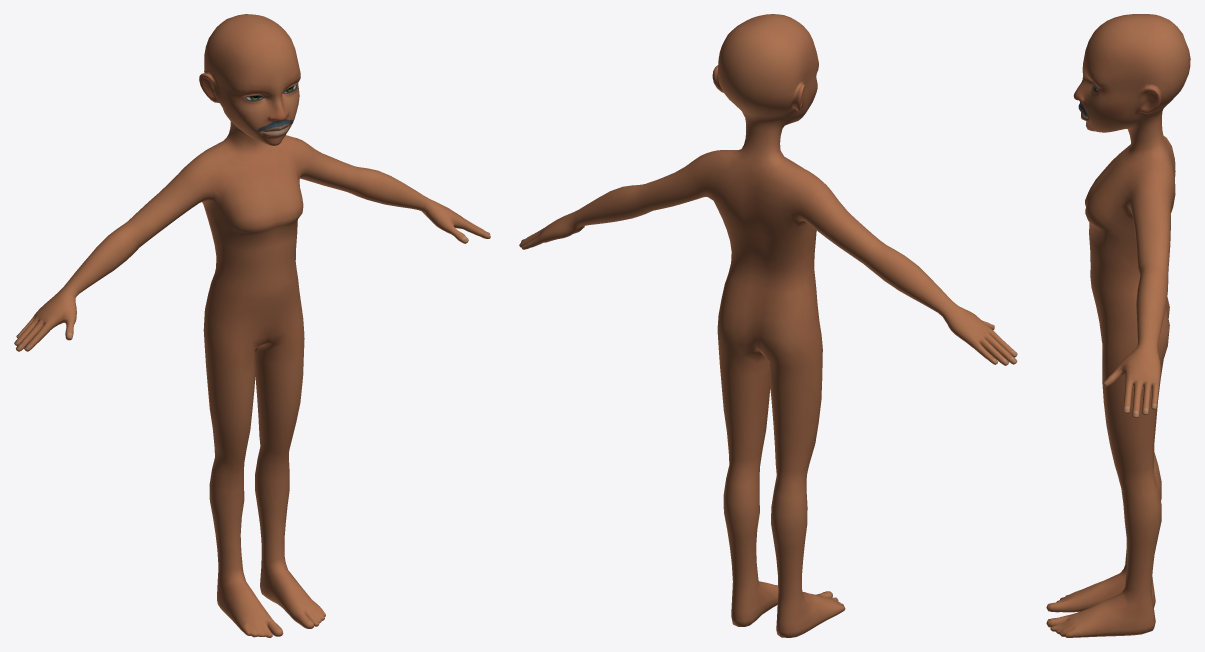
File: frame_0010.glb
3 views of the same model, side by side, from view 1: azimuth 30°, elevation 25°; view 2: azimuth 150°, elevation 25°; view 3: azimuth 270°, elevation 25° (orthographic). The views are drawn at different scales.
Parts seen in each view (by area): view 1: frame_0010_head_geo; view 2: frame_0010_head_geo; view 3: frame_0010_head_geo.
Part boxes in pixels (x1=…): frame_0010_head_geo: x1=14, y1=14, x2=490, y2=637; frame_0010_head_geo: x1=519, y1=14, x2=1017, y2=637; frame_0010_head_geo: x1=1046, y1=14, x2=1190, y2=637.
Size of the model in its own units: 1.28 by 1.5 by 0.3253.
3 materials, 3 textured.
